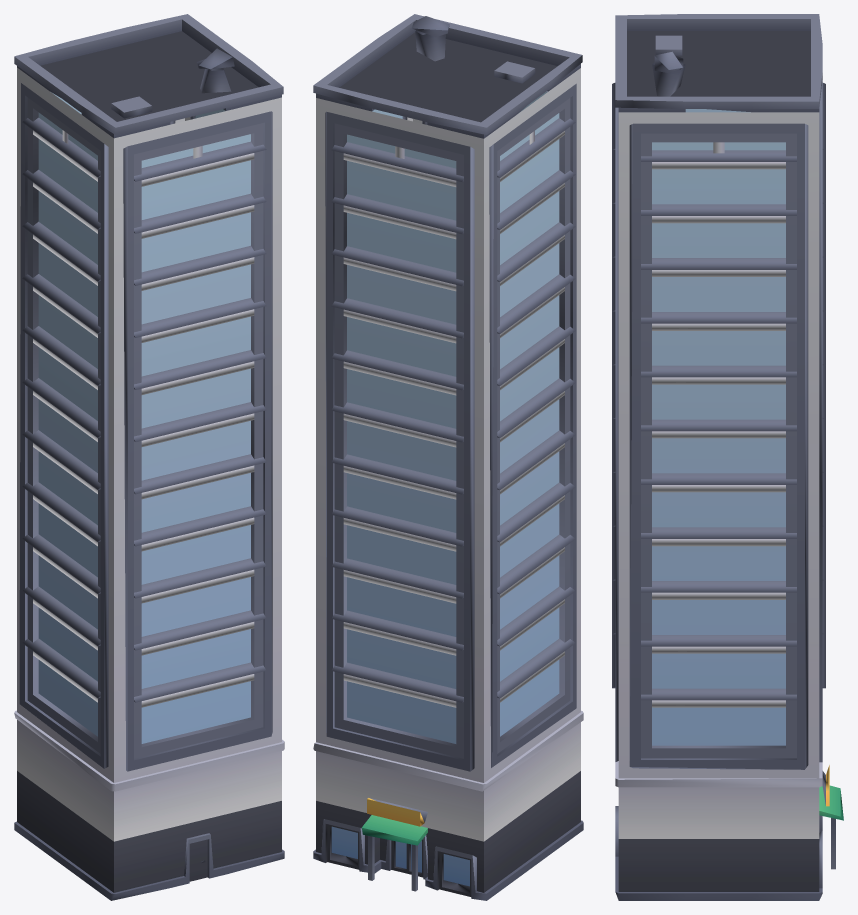
Rendered from 092_city-kit-commercial_building-skyscraper-d_card.glb.
3 renders of one model, left to right at view 1: azimuth 30°, elevation 25°; view 2: azimuth 150°, elevation 25°; view 3: azimuth 270°, elevation 25°, orthographic. The views are drawn at different scales.
Parts seen in each view (by area): view 1: building-skyscraper-d; view 2: building-skyscraper-d; view 3: building-skyscraper-d.
Part boxes in pixels (box(x1,y1,x2,y2)): building-skyscraper-d: box(14, 14, 284, 900); building-skyscraper-d: box(313, 14, 583, 900); building-skyscraper-d: box(612, 14, 843, 900).
Size of the model in its own units: 1.28 by 5.47 by 1.39.
1 material, 1 textured.
